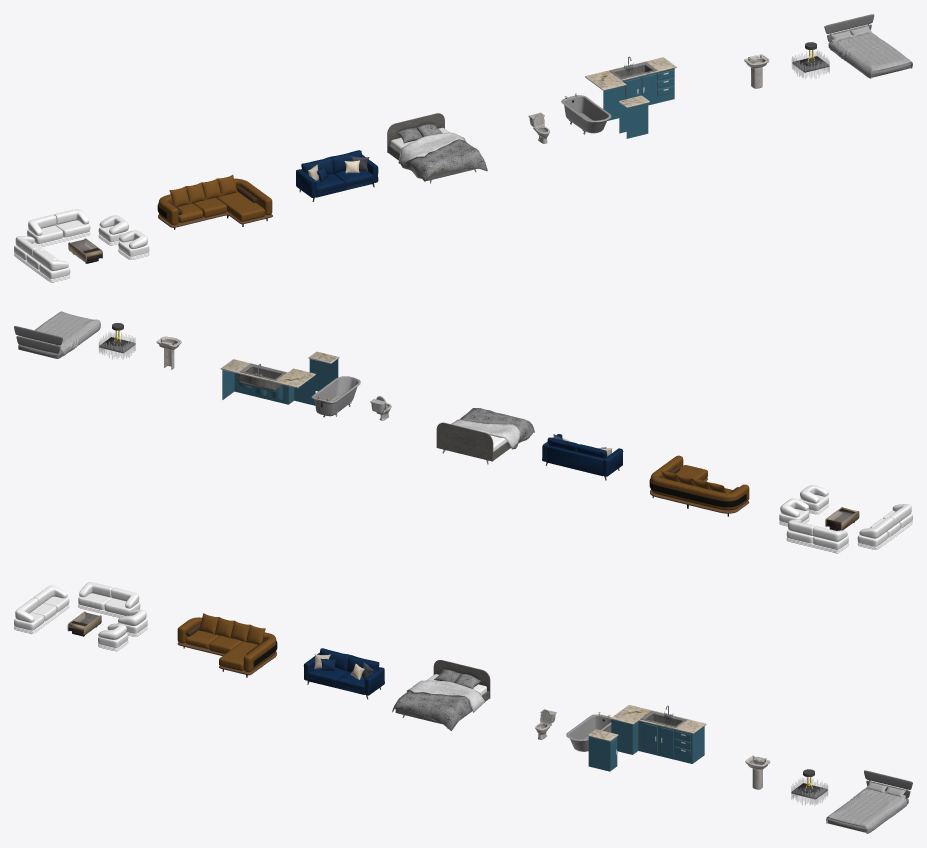
Rendered from items.v2.glb.
3 views of the same model, one above another, from view 1: azimuth 30°, elevation 25°; view 2: azimuth 150°, elevation 25°; view 3: azimuth 330°, elevation 25° (orthographic).
Parts seen in each view (by area): view 1: sofa_set_mesh, double_bed_mesh, kitchen_counter_mesh, corner_sofa_mesh, modern_bed_mesh, sofa_mesh, bathtub_mesh, chandelier_mesh; view 2: sofa_set_mesh, kitchen_counter_mesh, double_bed_mesh, corner_sofa_mesh, modern_bed_mesh, sofa_mesh, bathtub_mesh, chandelier_mesh; view 3: kitchen_counter_mesh, sofa_set_mesh, double_bed_mesh, corner_sofa_mesh, modern_bed_mesh, sofa_mesh, bathtub_mesh, chandelier_mesh.
Part boxes in pixels (x1,y1,x2,y2): sofa_set_mesh: (14,209,149,282); double_bed_mesh: (387,113,487,183); kitchen_counter_mesh: (585,56,676,138); corner_sofa_mesh: (157,175,272,229); modern_bed_mesh: (824,14,912,78); sofa_mesh: (296,150,378,201); bathtub_mesh: (561,93,611,134); chandelier_mesh: (792,42,829,78); sofa_set_mesh: (779,485,912,553); kitchen_counter_mesh: (220,351,339,405); double_bed_mesh: (436,408,534,464); corner_sofa_mesh: (649,455,749,516); modern_bed_mesh: (14,311,100,358); sofa_mesh: (542,434,623,480); bathtub_mesh: (311,376,360,417); chandelier_mesh: (99,323,135,359); kitchen_counter_mesh: (587,705,706,771); sofa_set_mesh: (14,582,147,651); double_bed_mesh: (392,660,490,731); corner_sofa_mesh: (177,613,277,677); modern_bed_mesh: (826,770,912,833); sofa_mesh: (303,648,384,699); bathtub_mesh: (566,712,611,751); chandelier_mesh: (791,769,827,805).
Bounding box in the file's own units: 25.99 × 1.25 × 2.65.
22 materials, 15 textured.
